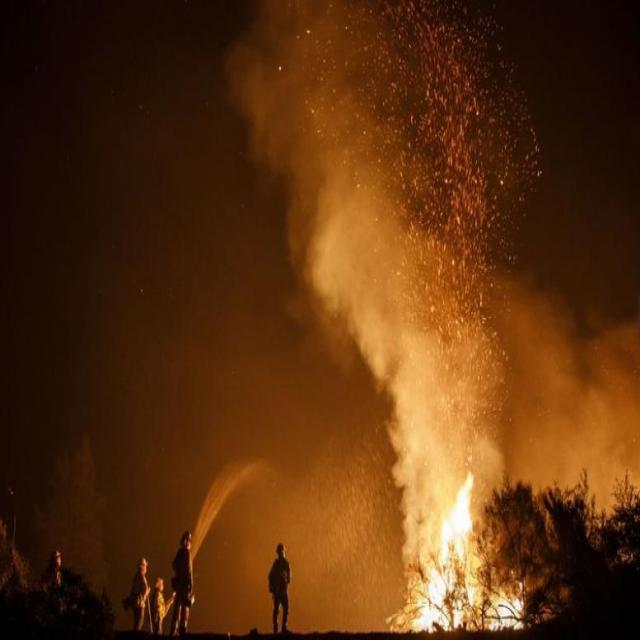Fire: (408, 459, 524, 629)
